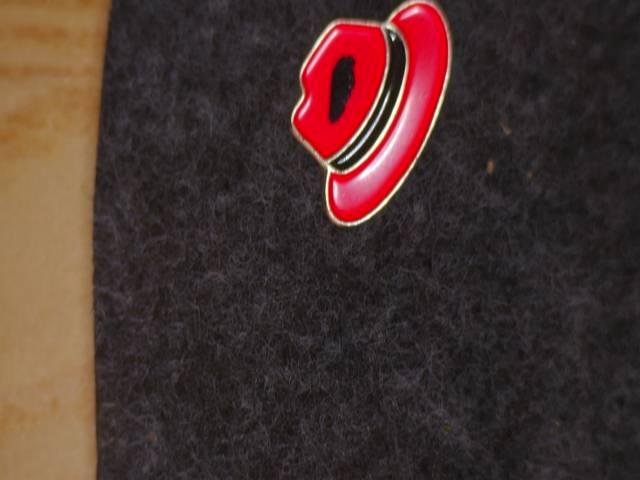Red-Hat: (249, 0, 466, 273)
Scratch: (314, 46, 377, 133)
